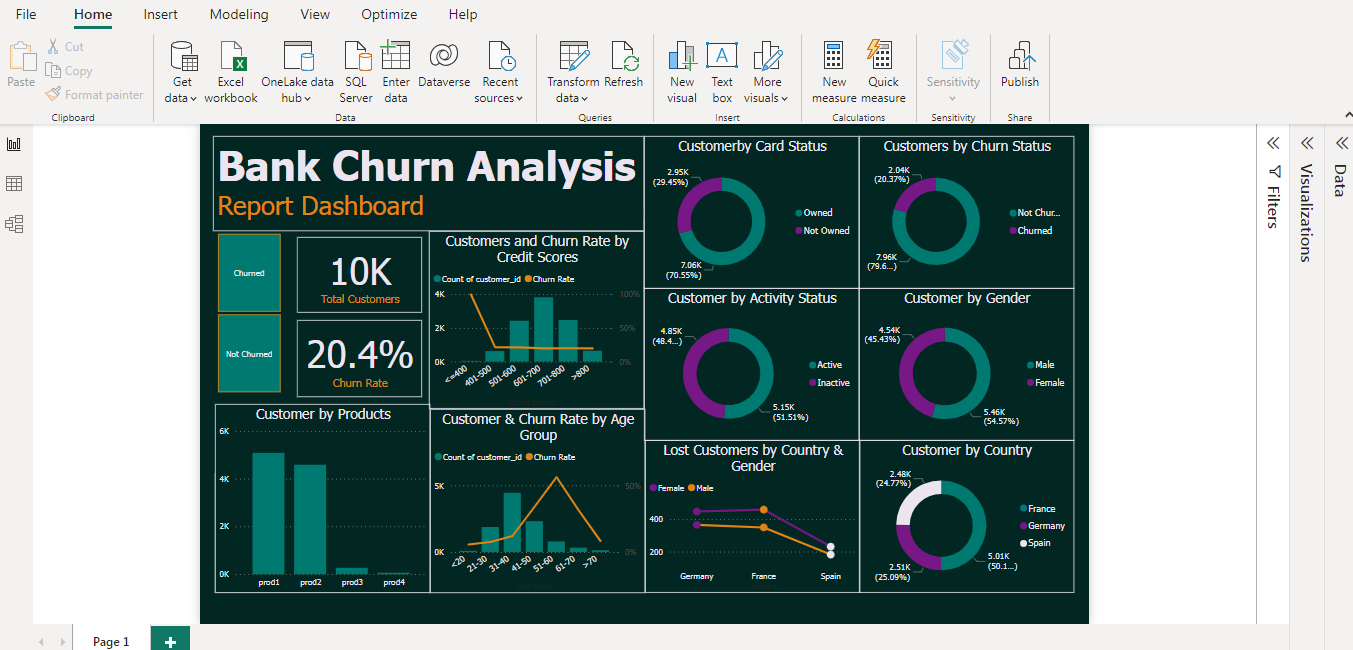

Layout of this report page (visuals, bound fields, positions):
{"tool":"powerbi","page":{"name":"Page 1","canvas":[1280,720],"ordinal":0},"visuals":[{"type":"card","fields":{"Values":["Bank Customer Churn Prediction.Total Customers"]},"box":[139.7,162.7,180,109.4],"z":0},{"type":"card","fields":{"Values":["Bank Customer Churn Prediction.Churn Rate"]},"box":[139.7,282.2,180,110.9],"z":2000},{"type":"donutChart","title":"Customer by Activity Status","fields":{"Y":["Count(Bank Customer Churn Prediction.customer_id)"],"Category":["Bank Customer Churn Prediction.Activity Status"]},"box":[639.4,236.2,309.6,220.3],"z":3000},{"type":"donutChart","title":"Customer by Gender","fields":{"Y":["Count(Bank Customer Churn Prediction.customer_id)"],"Category":["Bank Customer Churn Prediction.gender"]},"box":[949,236.2,309.6,220.3],"z":4000},{"type":"donutChart","title":"Customers by Churn Status","fields":{"Y":["Count(Bank Customer Churn Prediction.customer_id)"],"Category":["Bank Customer Churn Prediction.Churn Status"]},"box":[949,17.3,309.6,220.3],"z":5000},{"type":"donutChart","title":"Customer by Country","fields":{"Y":["Count(Bank Customer Churn Prediction.customer_id)"],"Category":["Bank Customer Churn Prediction.country"]},"box":[949,455,309.6,220.3],"z":6000},{"type":"lineStackedColumnComboChart","title":"Customer & Churn Rate by Age Group","fields":{"Y":["Count(Bank Customer Churn Prediction.customer_id)"],"Y2":["Bank Customer Churn Prediction.Churn Rate"],"Category":["Age Group.Age Group"]},"box":[331.2,410.4,309.6,265],"z":7000},{"type":"lineStackedColumnComboChart","title":"Customer by Products","fields":{"Category":["Bank Customer Churn Prediction.Products"],"Y":["Count(Bank Customer Churn Prediction.customer_id)"]},"box":[21.6,403.2,309.6,272.2],"z":8000},{"type":"donutChart","title":"Customerby Card Status","fields":{"Y":["Count(Bank Customer Churn Prediction.customer_id)"],"Category":["Bank Customer Churn Prediction.Card Status"]},"box":[639.4,17.3,310,220.3],"z":9000},{"type":"slicer","fields":{"Values":["Bank Customer Churn Prediction.Churn Status"]},"box":[0,151.2,139.7,241.9],"z":10000},{"type":"lineStackedColumnComboChart","title":"Customers and Churn Rate by Credit Scores","fields":{"Y":["Count(Bank Customer Churn Prediction.customer_id)"],"Y2":["Bank Customer Churn Prediction.Churn Rate"],"Category":["Credit score.Credit Scores"]},"box":[329.8,154.1,309.6,256.3],"z":11000},{"type":"lineChart","title":"Lost Customers by Country & Gender","fields":{"Y":["Bank Customer Churn Prediction.Lost Customers"],"Category":["Bank Customer Churn Prediction.country"],"Series":["Bank Customer Churn Prediction.gender"]},"box":[640.8,455,309.6,220.3],"z":12000},{"type":"textbox","box":[18.7,17.3,620.6,136.8],"z":12001}]}

Visuals, with their boxes on the page's 1280x720 design canvas (x1, y1, x2, y2). These are canvas units, not pixel positions in the 1353x650 screenshot, which may show the page scaled, cropped or inside an application window:
card - Bank Customer Churn Prediction.Total Customers: <box>140,163,320,272</box>
card - Bank Customer Churn Prediction.Churn Rate: <box>140,282,320,393</box>
"Customer by Activity Status" donutChart: <box>639,236,949,456</box>
"Customer by Gender" donutChart: <box>949,236,1259,456</box>
"Customers by Churn Status" donutChart: <box>949,17,1259,238</box>
"Customer by Country" donutChart: <box>949,455,1259,675</box>
"Customer & Churn Rate by Age Group" lineStackedColumnComboChart: <box>331,410,641,675</box>
"Customer by Products" lineStackedColumnComboChart: <box>22,403,331,675</box>
"Customerby Card Status" donutChart: <box>639,17,949,238</box>
slicer - Bank Customer Churn Prediction.Churn Status: <box>0,151,140,393</box>
"Customers and Churn Rate by Credit Scores" lineStackedColumnComboChart: <box>330,154,639,410</box>
"Lost Customers by Country & Gender" lineChart: <box>641,455,950,675</box>
textbox: <box>19,17,639,154</box>
